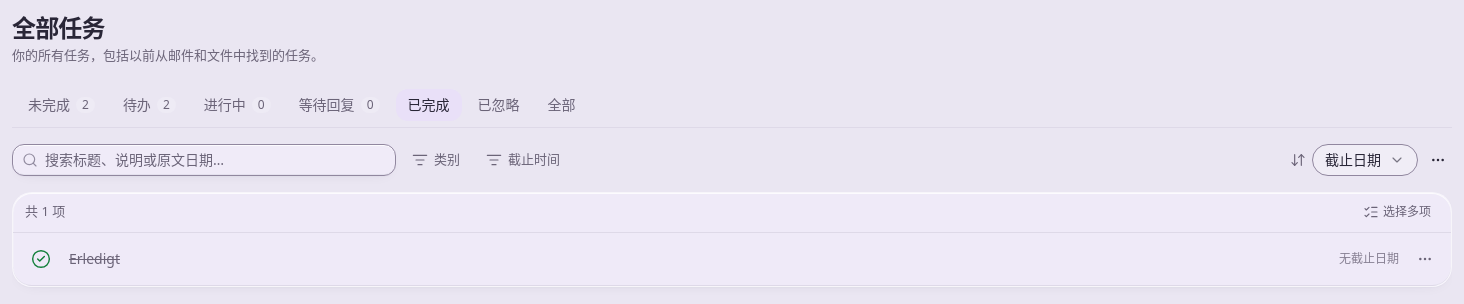
it: TasksPage › offers no rescheduling for completed tasks, which keep their date
What coordinates should you click on to do the following:
click the button "选择多项"
I would click on:
 (1397, 212)
Its box is 1355,200 -> 1439,224.
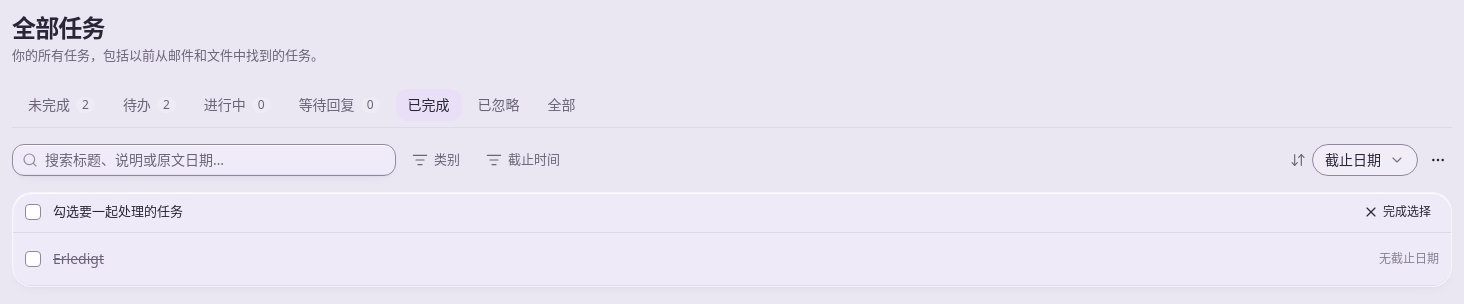
What coordinates should you click on to do the following:
click the checkbox named "选择「Erledigt」"
I would click on:
 (33, 258)
Its box is 25,250 -> 41,266.
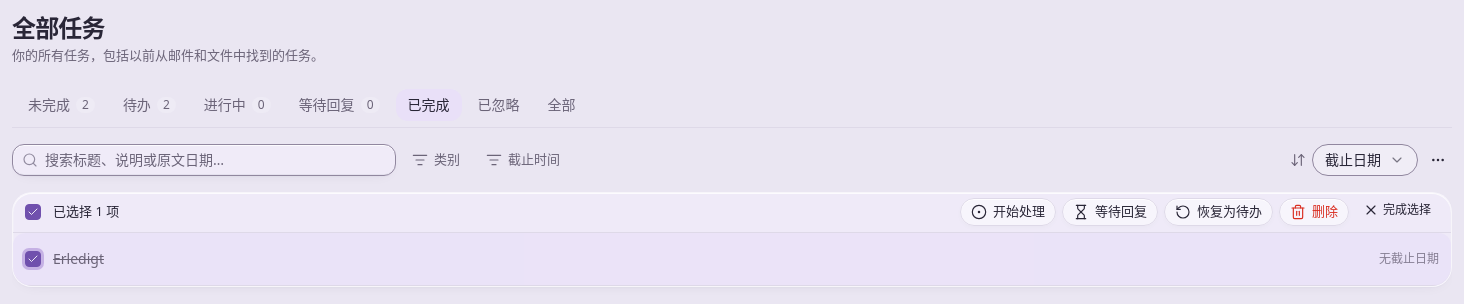
Check: the button "恢复为待办" is shown, box 1164,198 -> 1273,226
